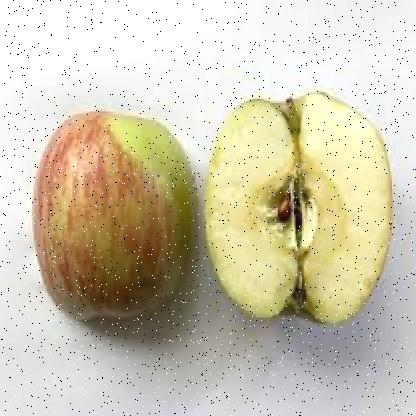apple: (29, 109, 191, 313)
damaged_apple: (206, 92, 386, 324)
